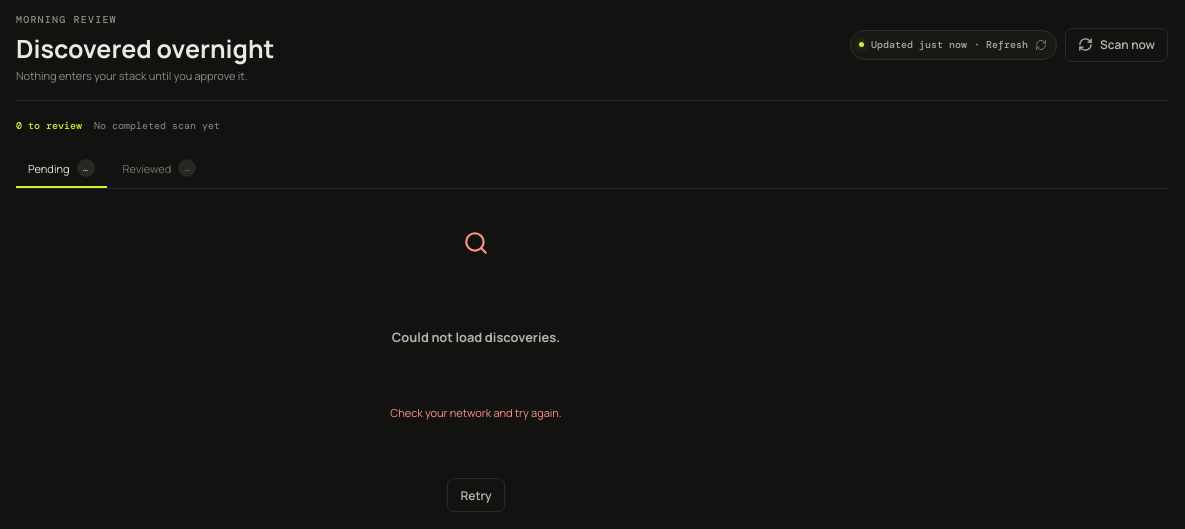
Test: DiscoveryInboxView inbox query failures › shows an error with Retry and reloads the inbox
Check: the message shows "Could not load discoveries. Check your network and try again.", box [390,230,562,512]
Step 1. Click the button "Retry" → x=476, y=495, box [448,478,505,512]
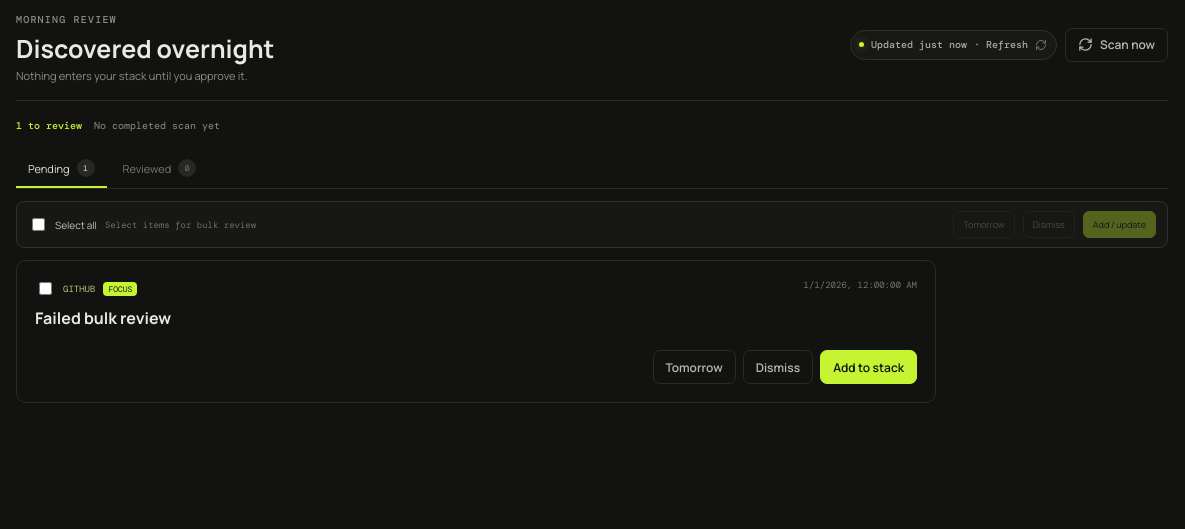
Check: the heading "Failed bulk review" is shown, box [35,307,171,329]
Check: the text "Focus" is shown, box [103,282,137,296]
